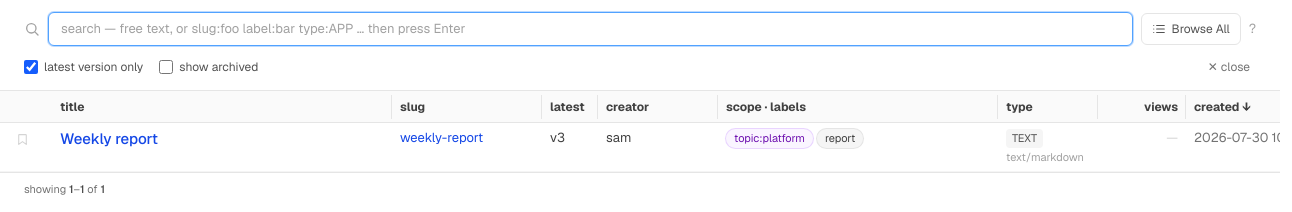
it: CatalogTable search bar › closes an empty bar without a router navigation
Click the button "✕ close". click: (1229, 66)
box: [1202, 56, 1256, 78]
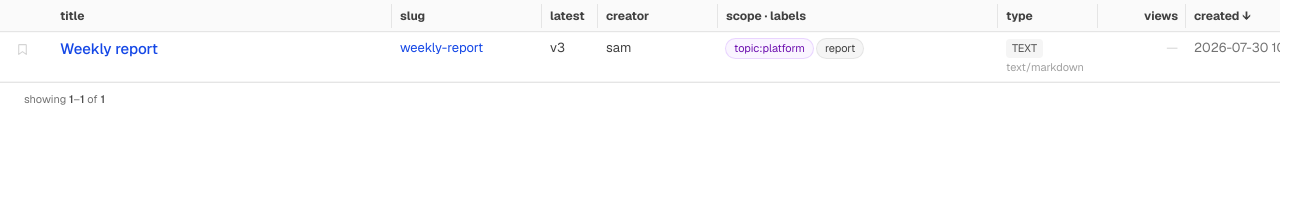
Now the field named "q" is gone
